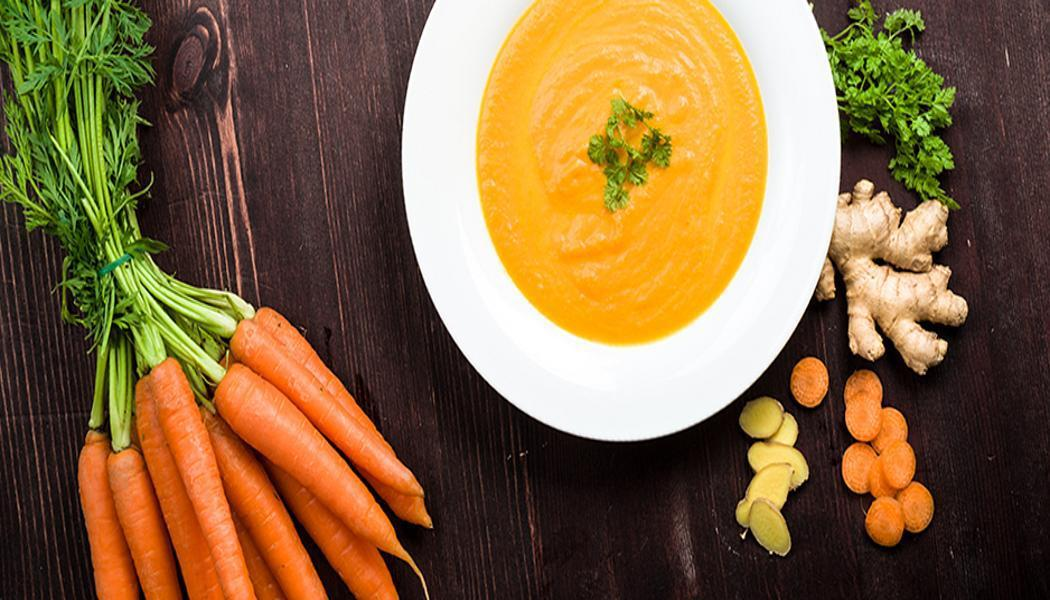carrot: (0, 5, 382, 600), (12, 315, 433, 600), (214, 300, 432, 600), (131, 360, 254, 600), (76, 419, 170, 600)
